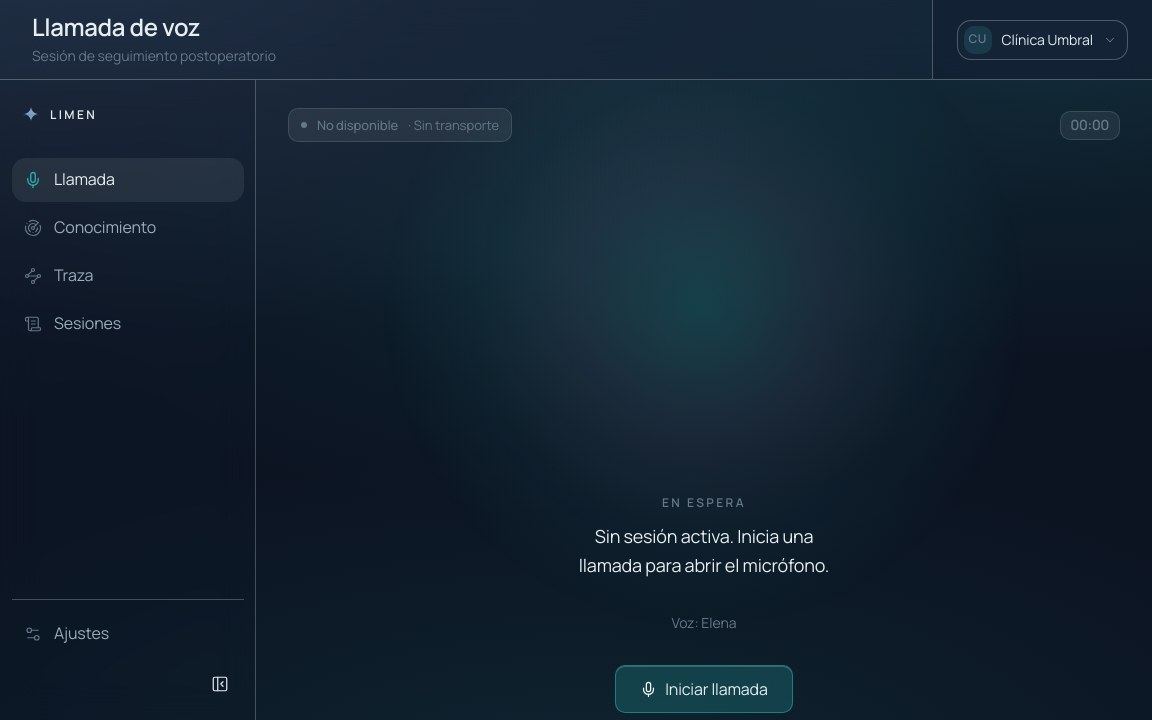
application shell routing › reveals live context and transcript as their own sections after start
Click the button "Iniciar llamada".
click(704, 689)  # box [615,665,793,713]
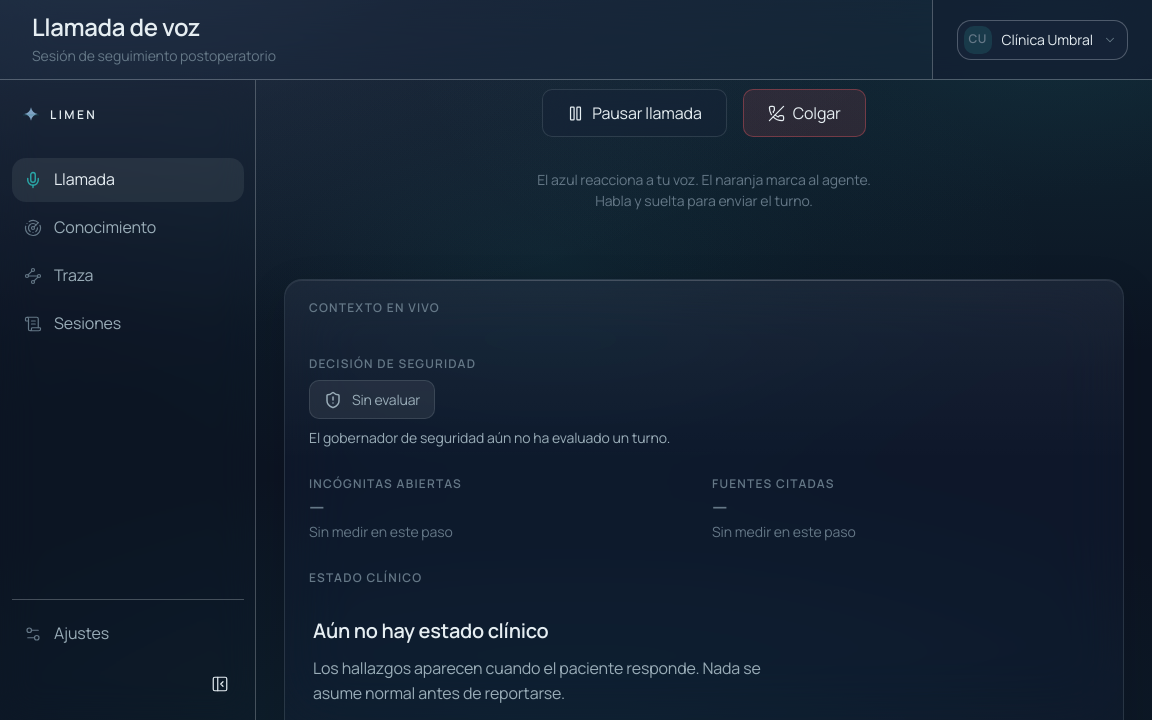
Result: the heading "Contexto en vivo" is shown at [309,300,440,316]
Result: the text "Sin evaluar" is shown at [309,380,435,420]
